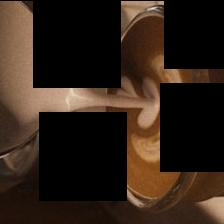brown: (106, 4, 224, 209)
